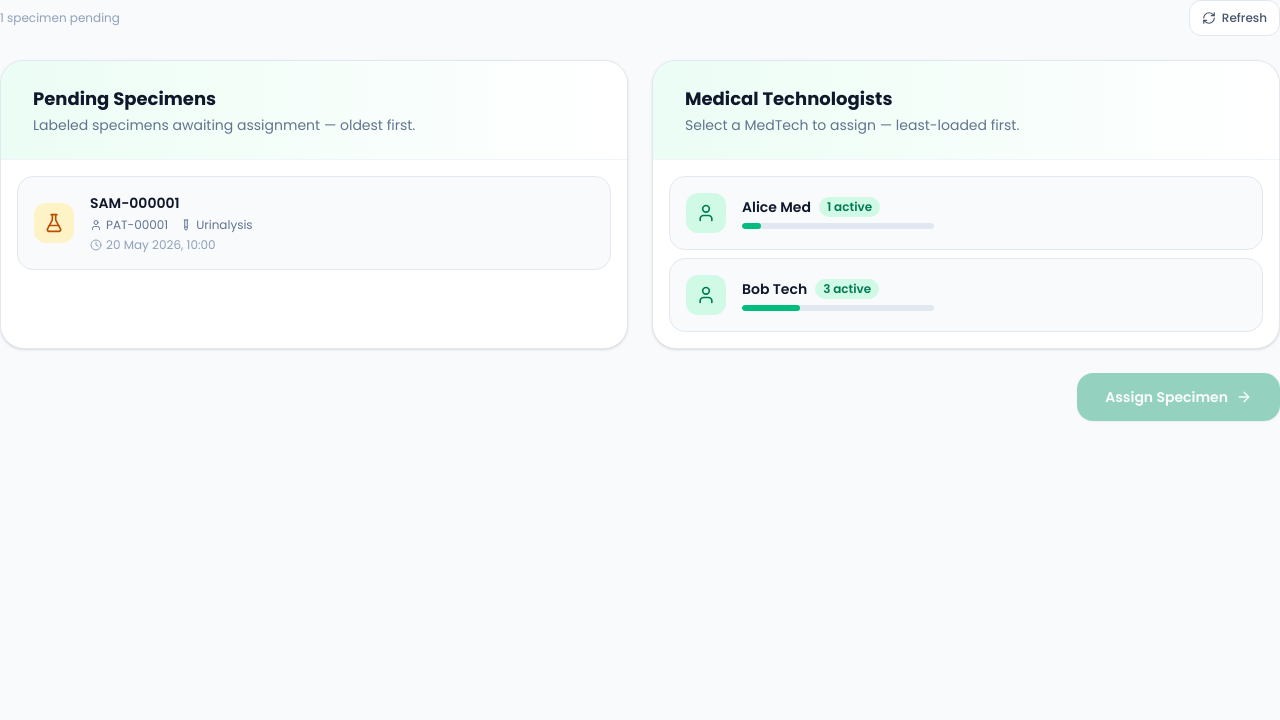
Test: QueueAssignmentDashboard › opens confirmation modal when Assign button is clicked
Click the text "SAM-000001": [135, 203] box [90, 193, 180, 213]
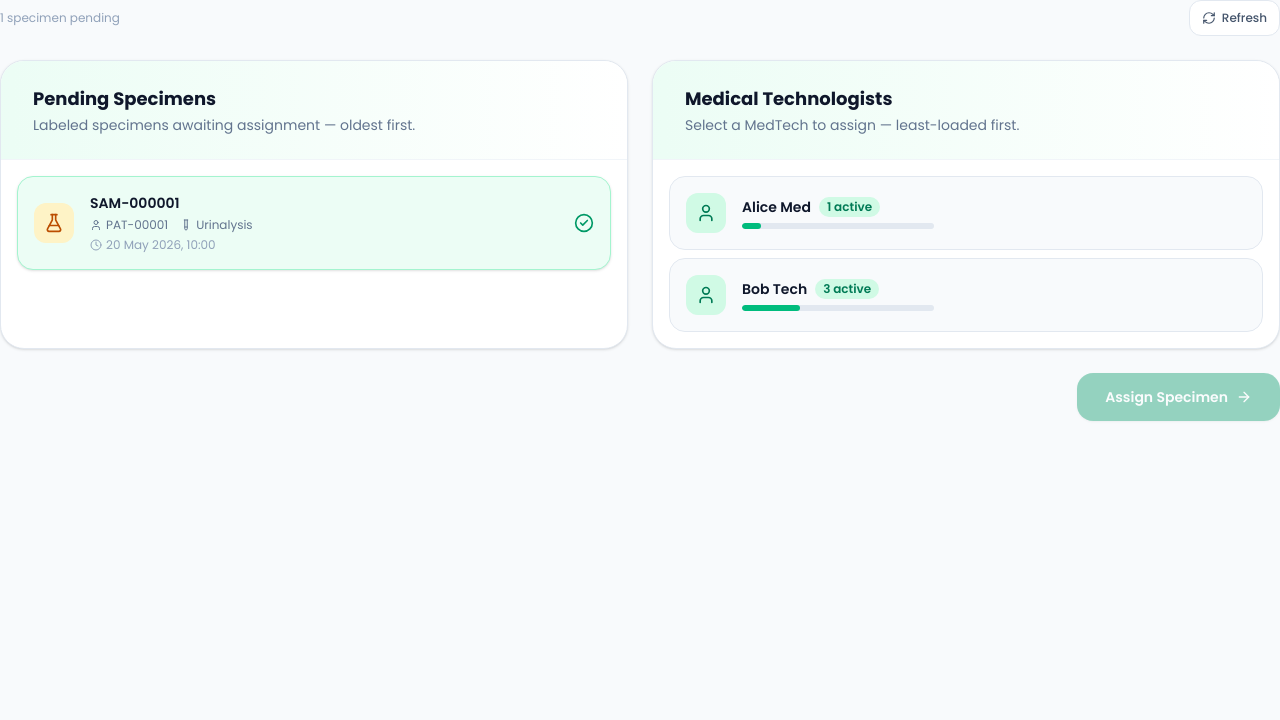
Click the text "Alice Med": [776, 207] box [742, 197, 811, 217]
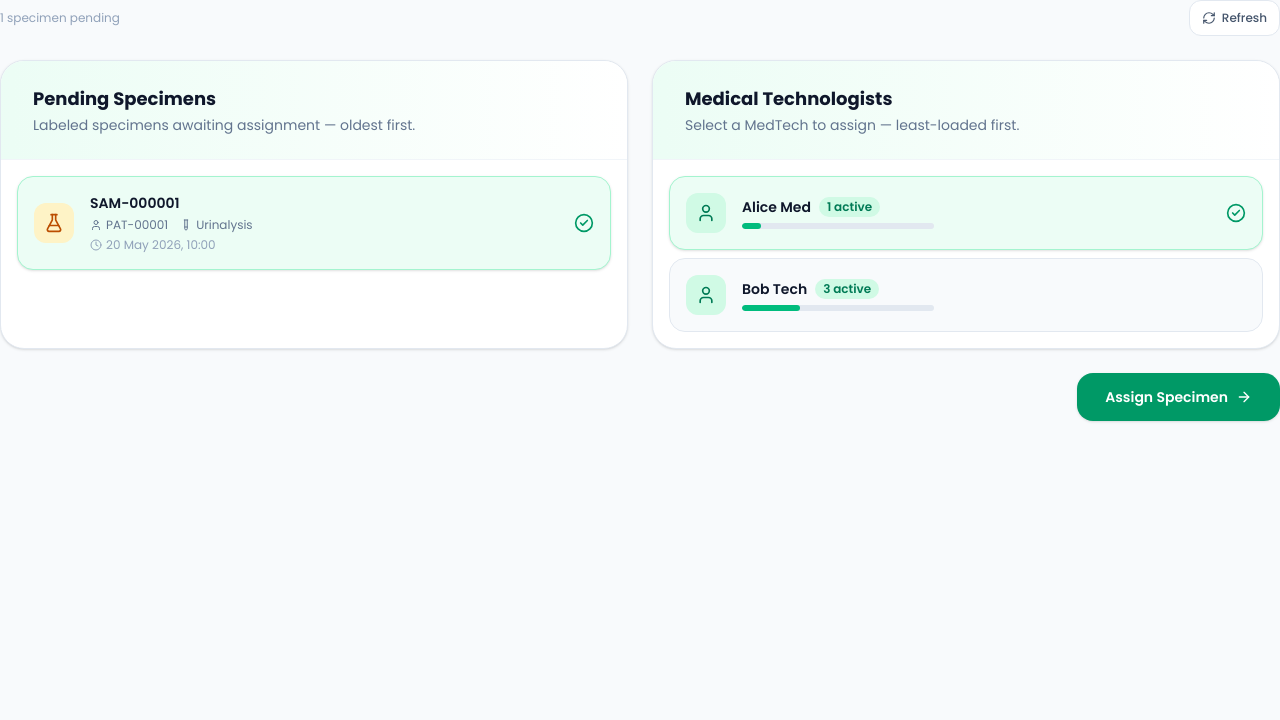
Click the button "Assign Specimen": [1179, 397] box [1077, 373, 1279, 421]
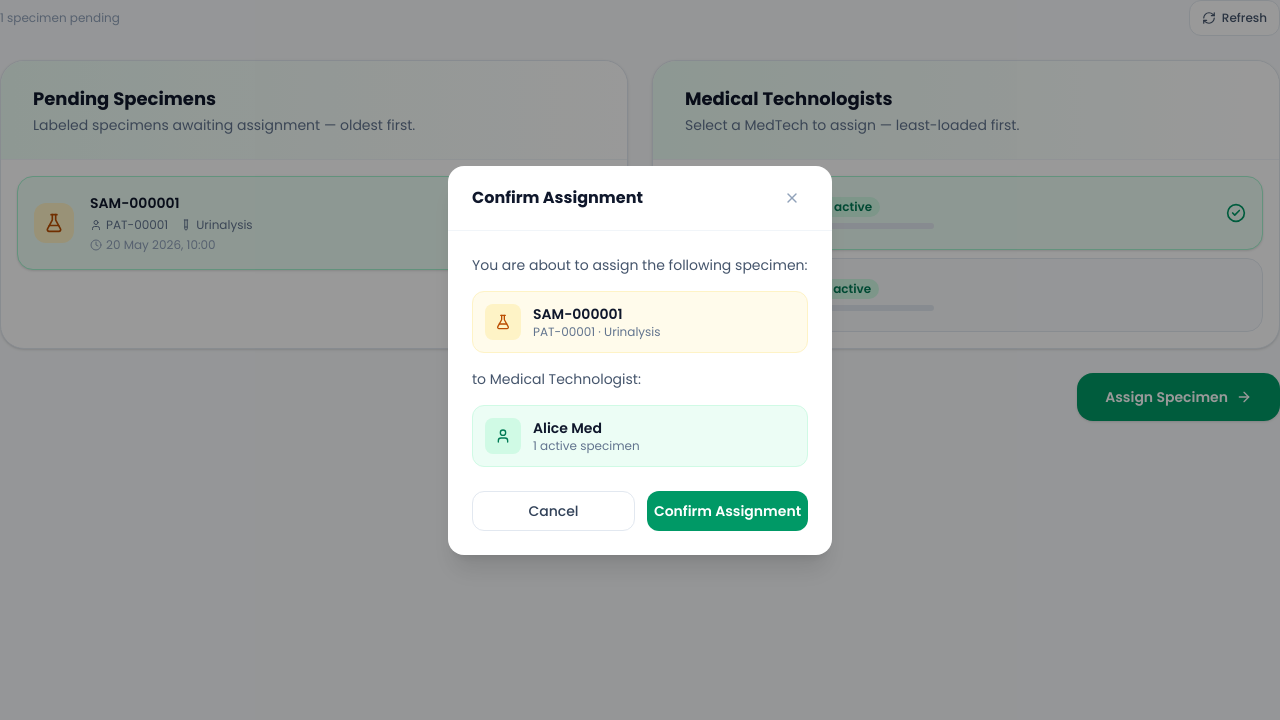
Now the heading "Confirm Assignment" is shown, box [472, 186, 643, 210]
Now the text "PAT-00001 · Urinalysis" is shown, box [533, 324, 661, 340]
